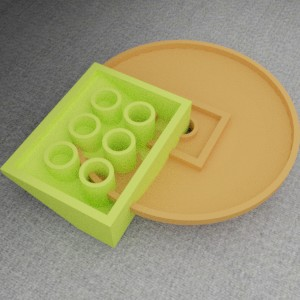lego: (70, 39, 299, 225), (0, 62, 192, 248)
